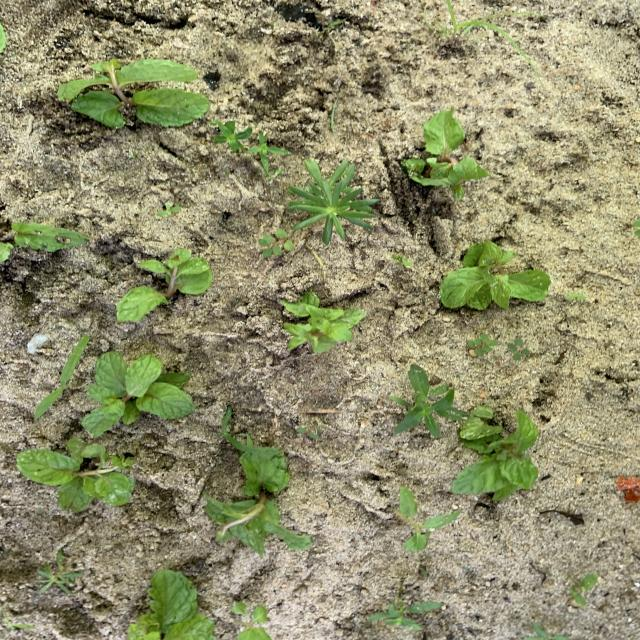crop: (205, 435, 311, 555), (58, 59, 210, 127), (82, 353, 194, 436), (17, 438, 134, 510), (452, 407, 538, 499), (403, 111, 489, 199), (441, 241, 549, 310), (117, 248, 211, 321), (129, 570, 215, 639), (283, 292, 366, 352), (1, 222, 86, 263)
weed: (436, 0, 539, 77), (288, 160, 378, 243), (392, 366, 465, 436), (35, 335, 88, 418), (391, 488, 460, 551), (367, 601, 442, 631), (232, 602, 271, 640), (248, 134, 287, 171), (38, 562, 82, 593), (213, 121, 253, 150), (259, 228, 294, 257), (570, 574, 598, 606), (525, 623, 571, 639), (468, 334, 499, 354), (507, 339, 530, 359), (157, 204, 180, 215), (392, 254, 411, 267), (565, 292, 586, 299), (634, 220, 639, 235)
